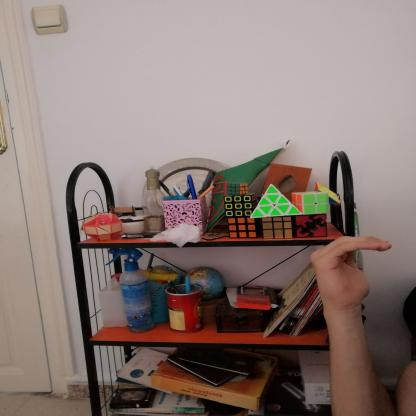HAA: (302, 229, 397, 317)
